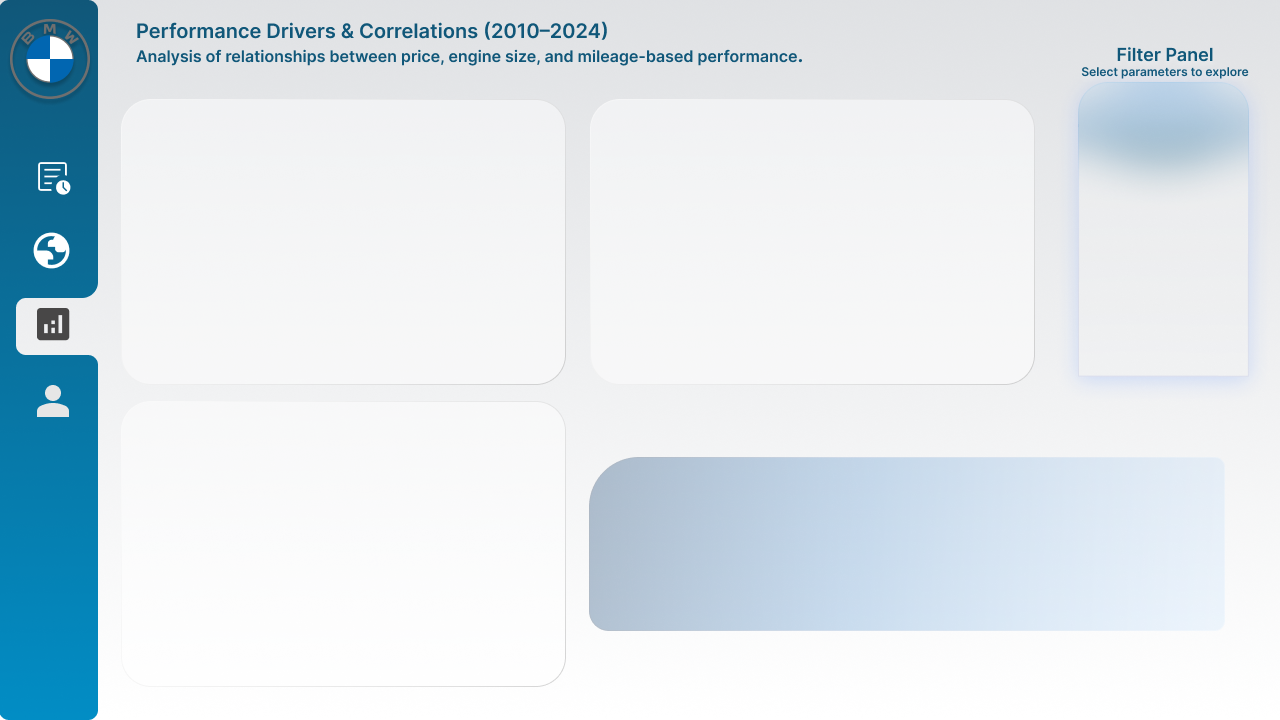

Layout of this report page (visuals, bound fields, positions):
{"tool":"powerbi","page":{"name":"Página 3","canvas":[1280,720],"ordinal":2},"visuals":[{"type":"scatterChart","title":"Engine Size vs. Price (by Region)","fields":{"X":["Sum(bmw_sales_final.Engine_Size_L)"],"Y":["Sum(bmw_sales_final.Price_USD)"],"Series":["bmw_sales_final.Region"]},"box":[126.6,97.3,445.2,285.1],"z":0},{"type":"lineChart","title":"Average Price by Mileage Range","fields":{"Category":["bmw_sales_final.Mileage_Range"],"Y":["bmw_sales_final.Average Price"],"Series":["bmw_sales_final.Region"]},"box":[126.7,403.3,431.7,286.7],"z":1000},{"type":"barChart","title":"Sales Volume by Mileage Range and Region","fields":{"Category":["bmw_sales_final.Mileage_Range"],"Y":["bmw_sales_final.Total Sales Volume"],"Series":["bmw_sales_final.Region"]},"box":[585,103.3,450,273.3],"z":2000},{"type":"card","fields":{"Values":["bmw_sales_final.Dynamic Insight Extended"]},"box":[571.7,388.3,681.7,301.7],"z":3000},{"type":"slicer","fields":{"Values":["bmw_sales_final.Year"]},"box":[1079.3,111.2,169.7,83.5],"z":4000},{"type":"slicer","fields":{"Values":["bmw_sales_final.Region"]},"box":[1079.3,198.9,169.7,71.8],"z":5000},{"type":"slicer","fields":{"Values":["bmw_sales_final.Fuel_Type"]},"box":[1079.3,270.7,169.7,85.1],"z":6000},{"type":"actionButton","box":[0,138.8,99.8,70.8],"z":7000},{"type":"actionButton","box":[0,209.6,99.8,70.8],"z":8000},{"type":"actionButton","box":[0,360,99.8,70.8],"z":9000}]}

Visuals, with their boxes on the page's 1280x720 design canvas (x1, y1, x2, y2). These are canvas units, not pixel positions in the 1280x720 screenshot, which may show the page scaled, cropped or inside an application window:
"Engine Size vs. Price (by Region)" scatterChart: (127,97,572,382)
"Average Price by Mileage Range" lineChart: (127,403,558,690)
"Sales Volume by Mileage Range and Region" barChart: (585,103,1035,377)
card - bmw_sales_final.Dynamic Insight Extended: (572,388,1253,690)
slicer - bmw_sales_final.Year: (1079,111,1249,195)
slicer - bmw_sales_final.Region: (1079,199,1249,271)
slicer - bmw_sales_final.Fuel_Type: (1079,271,1249,356)
actionButton: (0,139,100,210)
actionButton: (0,210,100,280)
actionButton: (0,360,100,431)
